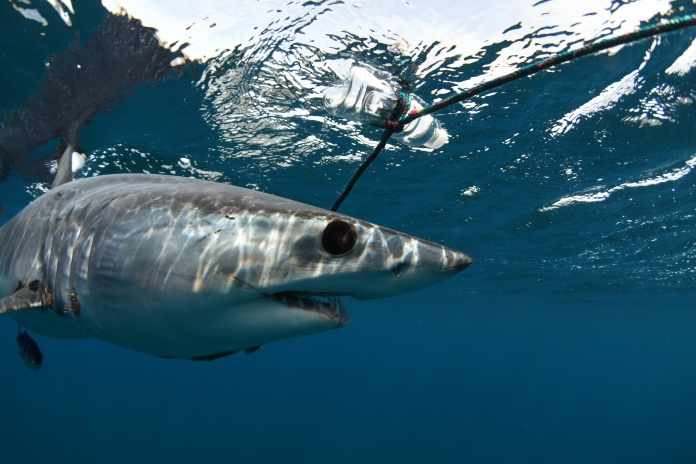Mako: (1, 139, 500, 373)
